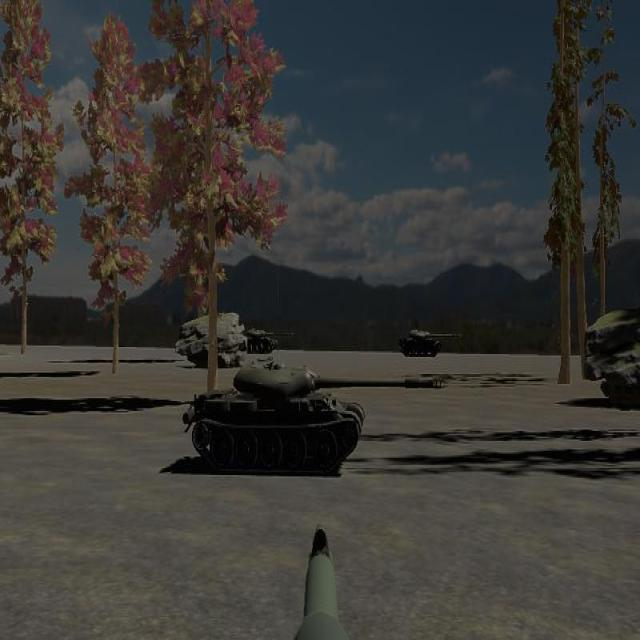Tank: (183, 363, 447, 475), (398, 327, 462, 358), (244, 326, 295, 355), (245, 325, 294, 355)
